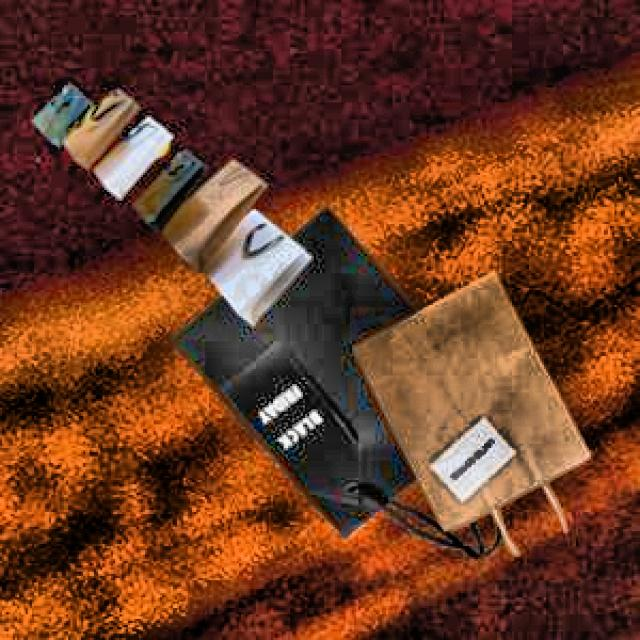Paper-bag: (175, 193, 520, 566), (10, 59, 315, 326), (348, 271, 588, 570)
